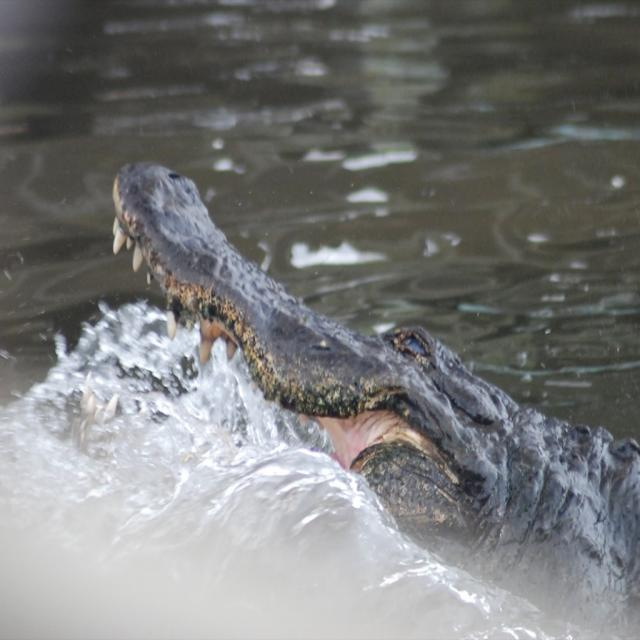crocodile: (125, 161, 638, 615)
